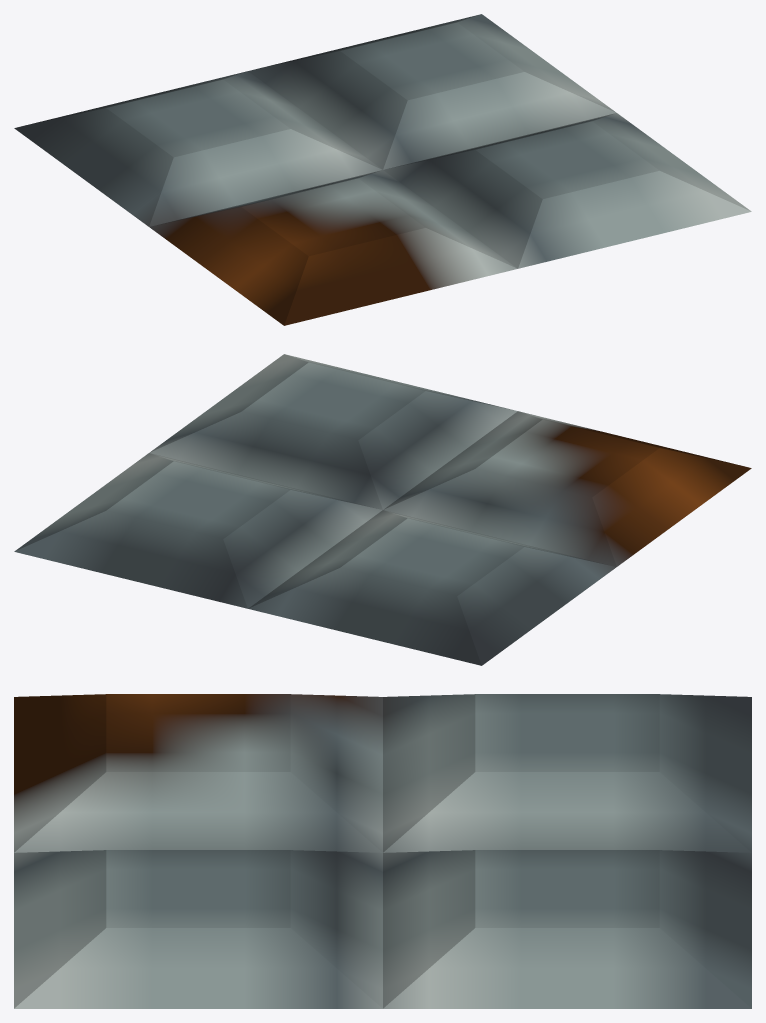
File: floor_2_c.obj
The picture shows the model from 3 angles, top to bottom: view 1: azimuth 30°, elevation 25°; view 2: azimuth 150°, elevation 25°; view 3: azimuth 270°, elevation 25°; orthographic projection. The views are drawn at different scales.
Parts seen in each view (by area): view 1: Default; view 2: Default; view 3: Default.
Part boxes in pixels (<box>): Default: <box>14,14,751,325</box>; Default: <box>14,354,751,665</box>; Default: <box>14,694,751,1008</box>.
Bounding box in the file's own units: 1 × 0.0625 × 1.
